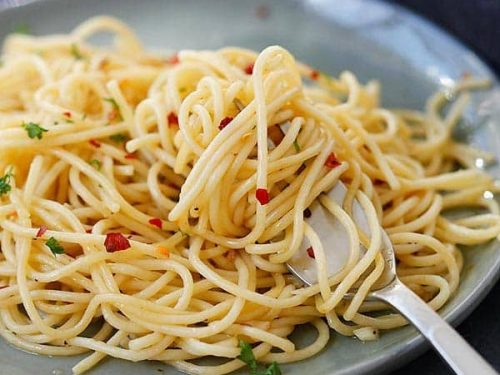plain spaghetti: (38, 87, 261, 333)
